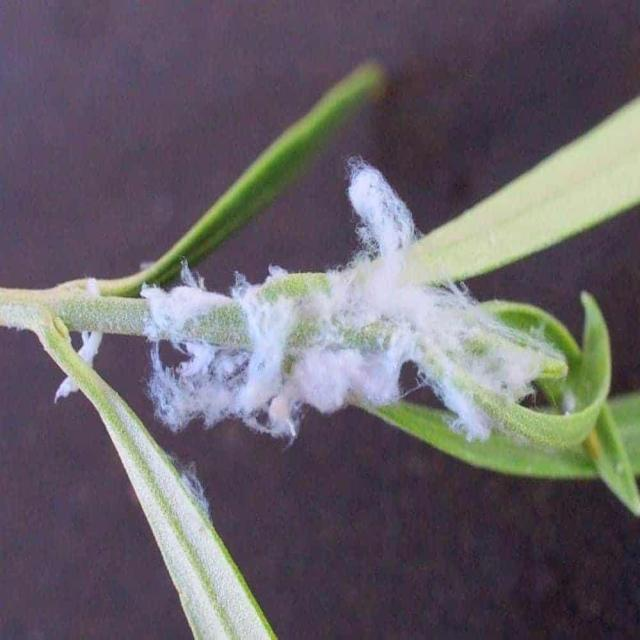Psyllid: (142, 157, 548, 443)
